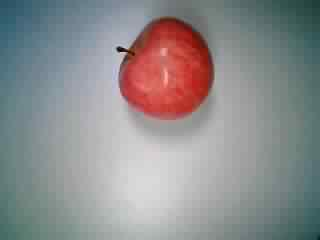apple: (112, 17, 217, 119)
